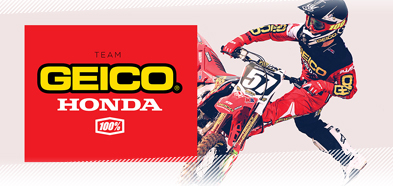Geico: (34, 59, 185, 96)
